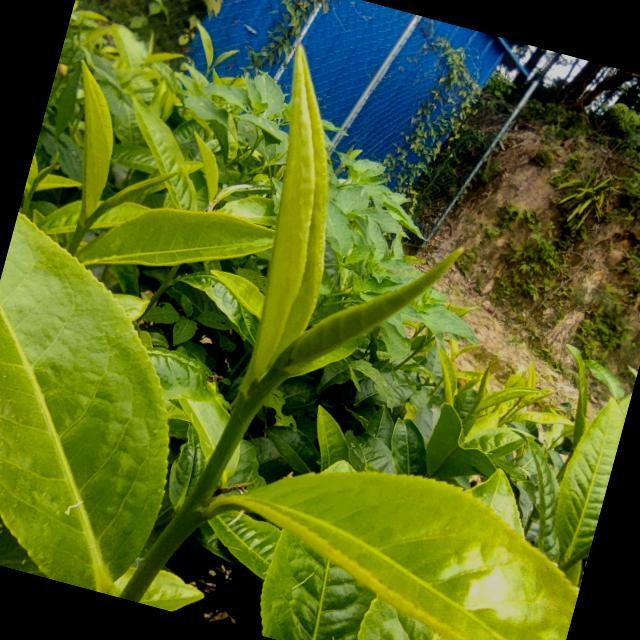Stem: (238, 392, 256, 418), (78, 223, 86, 233)
